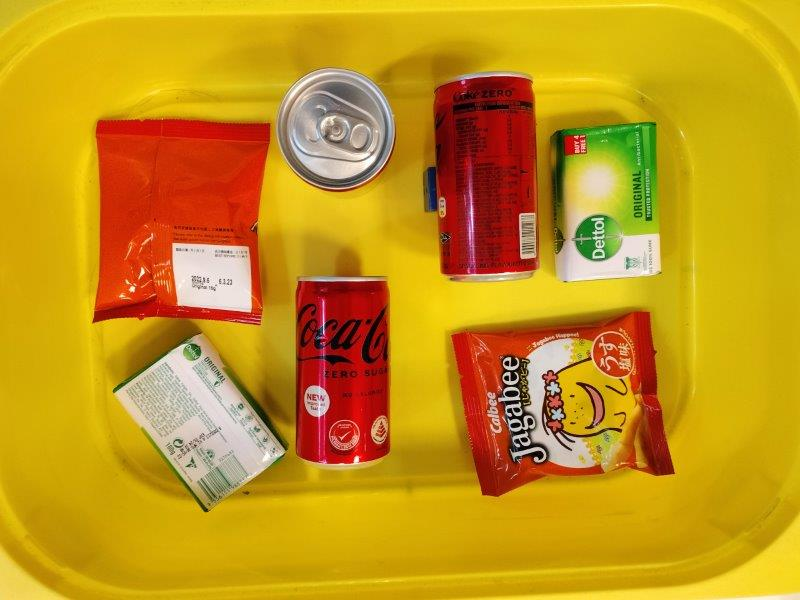Coke: (434, 73, 542, 283), (295, 277, 394, 466), (276, 66, 395, 192)
Dettol: (112, 332, 287, 510), (550, 121, 663, 282)
Jagabee: (451, 311, 676, 496), (94, 117, 270, 325)
